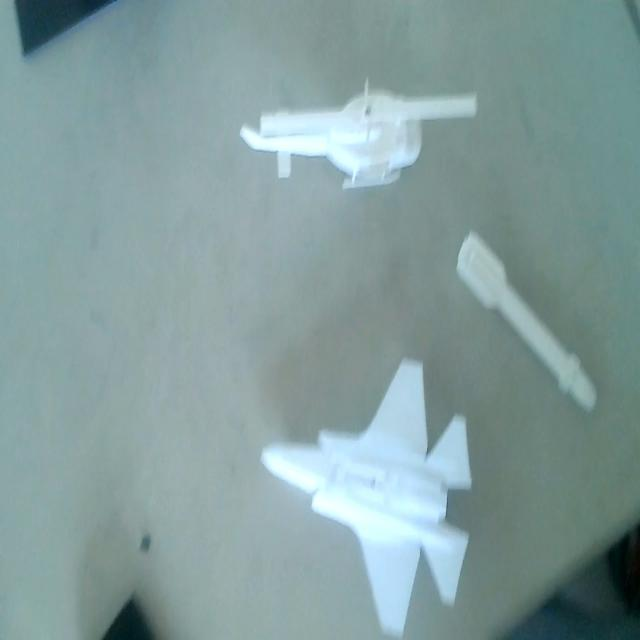Helicopter: (240, 80, 476, 191)
Jet: (258, 355, 473, 640)
Rocket: (453, 227, 601, 417)
